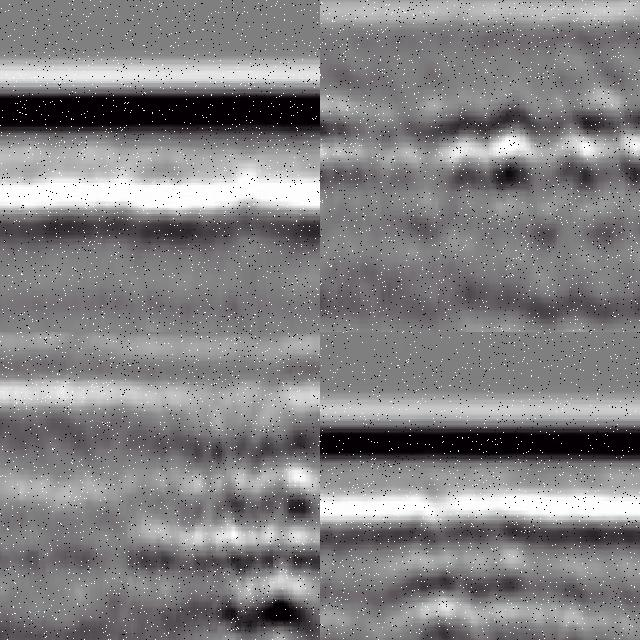loose: (321, 80, 640, 198), (164, 409, 321, 640), (377, 553, 615, 640)
